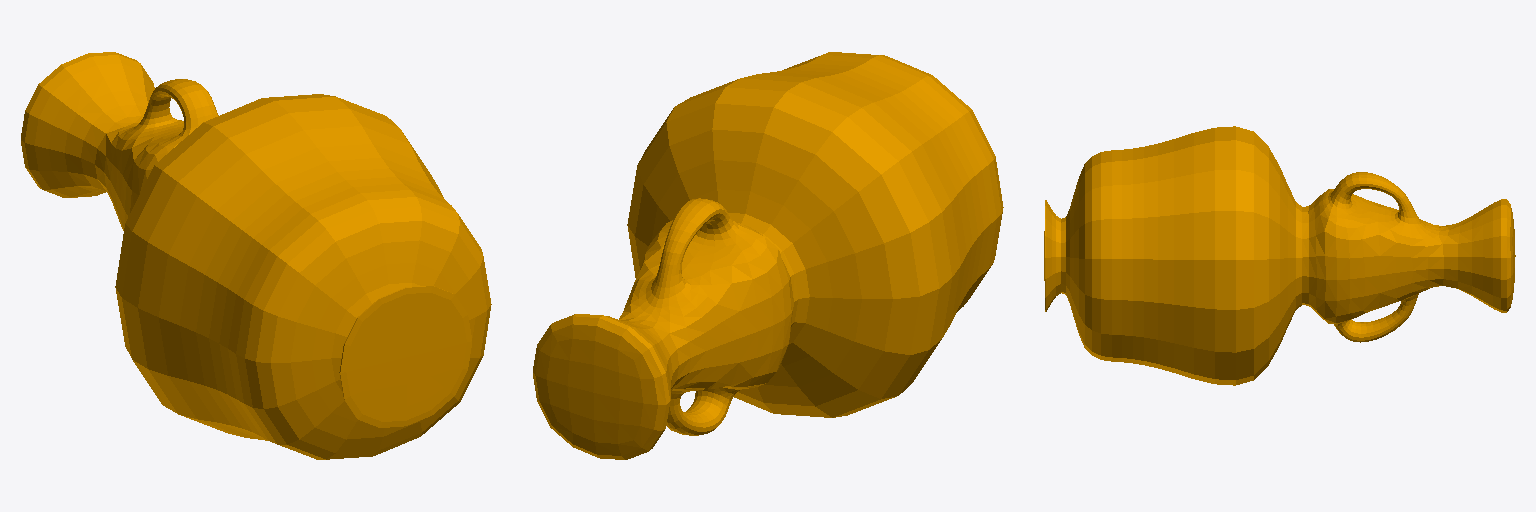
URDF robot description (12):
<?xml version="1.0" ?>
<robot name="12">
  <link name="body">
    <visual>
      <geometry>
        <mesh filename="../shapes/12.obj"/>
      </geometry>
    </visual>
    <collision>
      <geometry>
        <mesh filename="../shapes/12.obj"/>
      </geometry>
    </collision>
  </link>
</robot>

--- What the picture shows (computed from the rendered views, not written in the file) ---
The picture shows the robot from 3 angles, left to right: view 1: azimuth 30°, elevation 25°; view 2: azimuth 150°, elevation 25°; view 3: azimuth 270°, elevation 25°; orthographic projection.
Model 12 with 1 links and 0 joints (none), rooted at body, posed every joint at zero.
Links seen in each view (by area): view 1: body; view 2: body; view 3: body.
Boxes of the visible links, x1,y1,x2,y2 form: body: [21, 52, 491, 459]; body: [533, 52, 1003, 459]; body: [1044, 126, 1515, 385].
Bounding box of the posed robot: 5.76 × 10.62 × 5.76 m (x, y, z).
1 mesh visuals loaded from 1 distinct referenced files (1 OBJ).